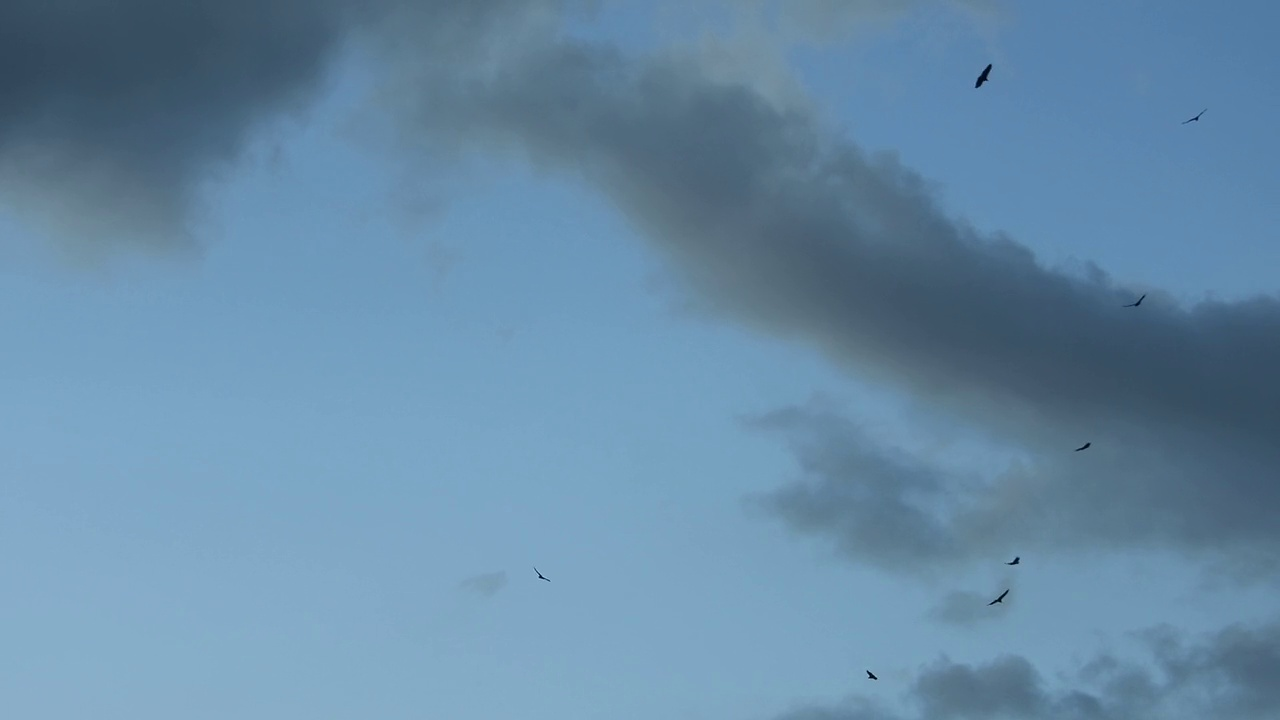bird: (1181, 108, 1208, 126), (974, 62, 992, 88), (1123, 293, 1145, 309), (986, 590, 1008, 606), (533, 564, 550, 583), (1076, 439, 1089, 453), (1005, 555, 1020, 567), (865, 668, 877, 681)
